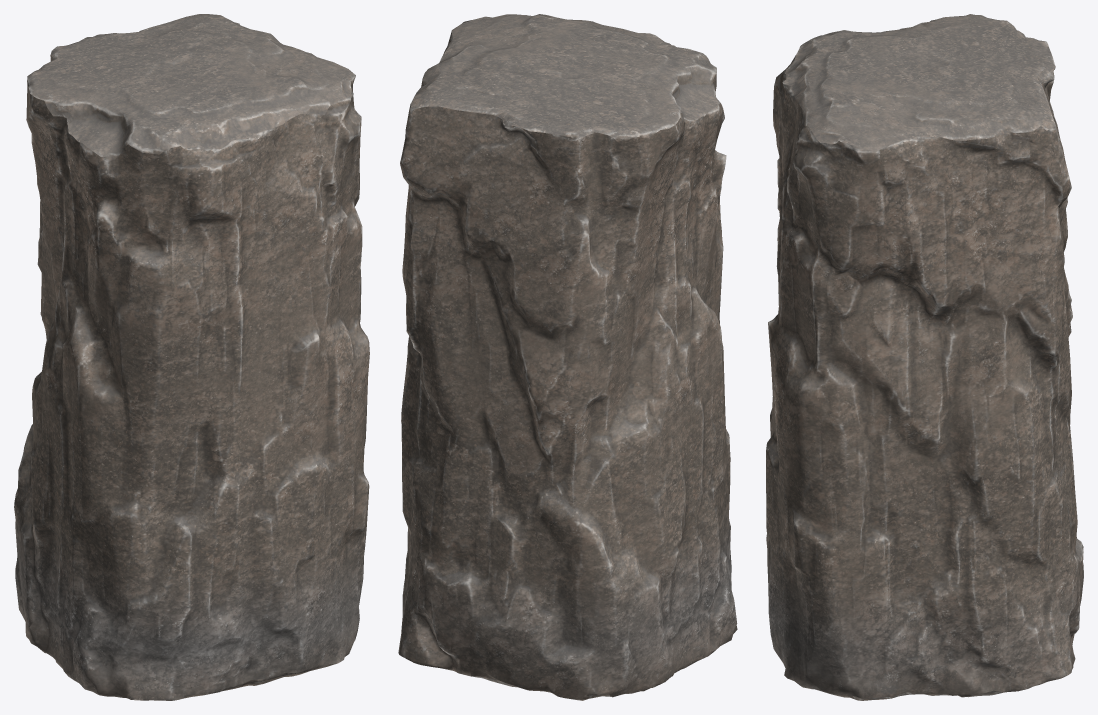
3 renders of one model, left to right at view 1: azimuth 30°, elevation 25°; view 2: azimuth 150°, elevation 25°; view 3: azimuth 270°, elevation 25°, orthographic.
Visible parts, largest first — view 1: SM_Rock02; view 2: SM_Rock02; view 3: SM_Rock02.
Boxes of the visible parts, x1,y1,x2,y2 form: SM_Rock02: (14, 14, 369, 700); SM_Rock02: (398, 14, 737, 700); SM_Rock02: (766, 14, 1083, 700).
Bounding box in the file's own units: 102 × 208 × 102.
Materials: 1 (1 with a texture image).
